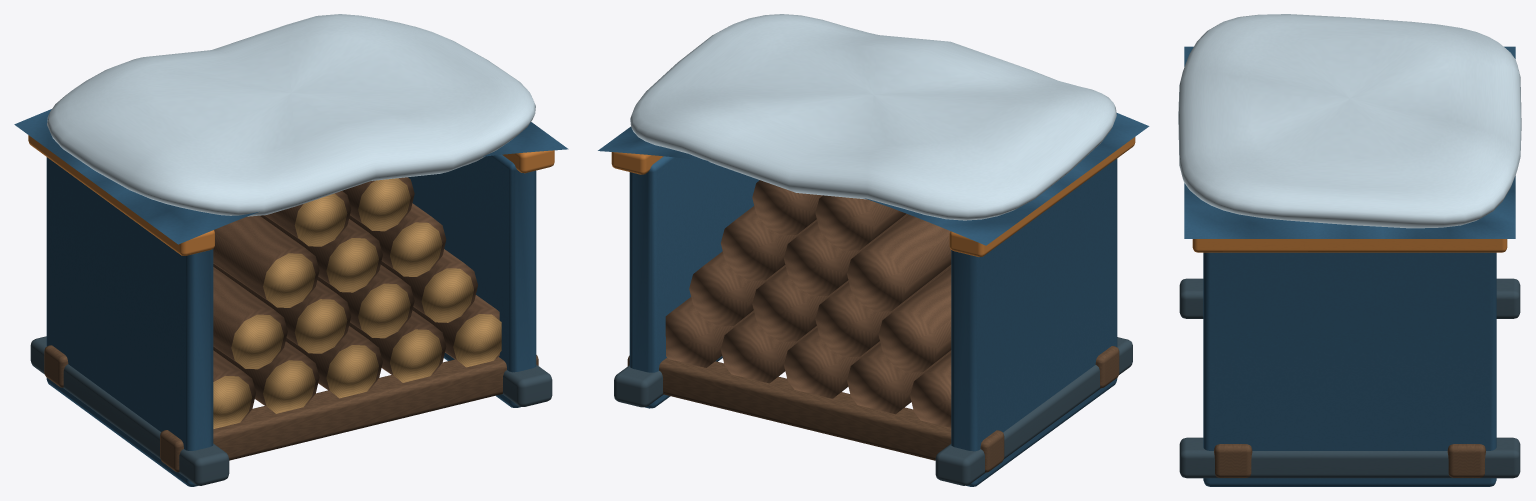
Rendered from storage.glb.
3 renders of one model, left to right at view 1: azimuth 30°, elevation 25°; view 2: azimuth 150°, elevation 25°; view 3: azimuth 270°, elevation 25°, orthographic.
Parts seen in each view (by area): view 1: storage; view 2: storage; view 3: storage.
Boxes of the visible parts, box(x1,y1,x2,y2) form: storage: box(14, 14, 568, 486); storage: box(598, 14, 1149, 486); storage: box(1178, 14, 1521, 486).
Size of the model in its own units: 1.94 by 1.43 by 1.44.
Materials: 7 (7 with a texture image).
